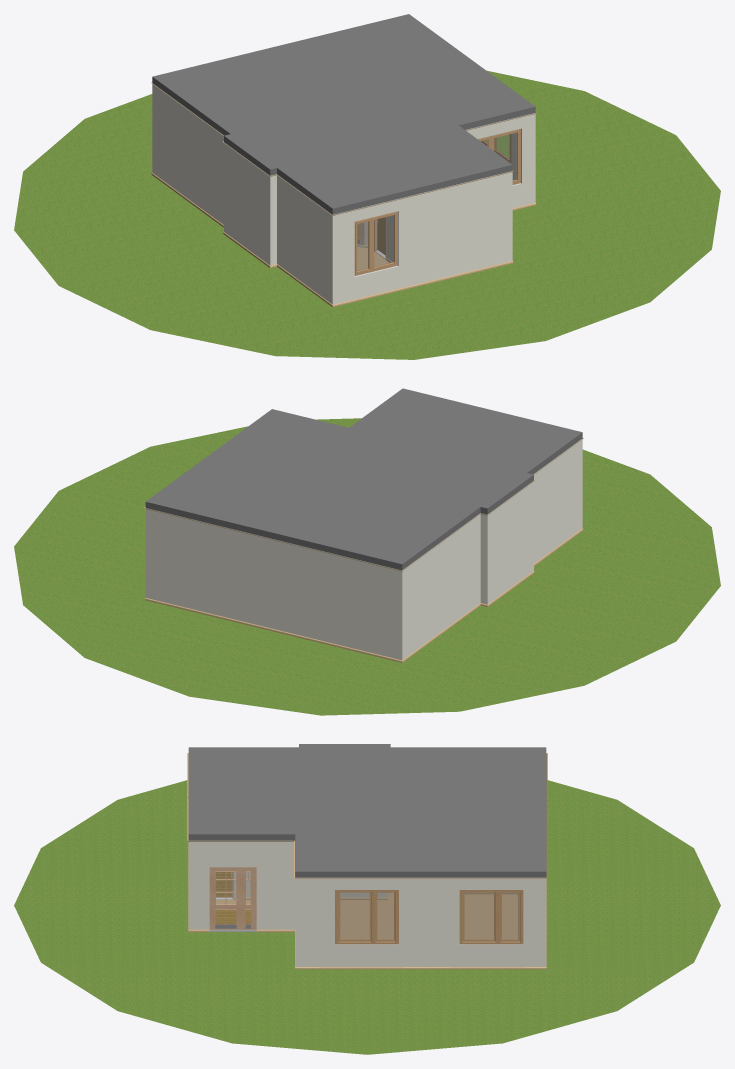
The model's file is office.dae.
3 views of the same model, one above another, from view 1: azimuth 30°, elevation 25°; view 2: azimuth 150°, elevation 25°; view 3: azimuth 270°, elevation 25° (orthographic).
Visible parts, largest first — view 1: node-910, node-905, node-867, node-872, node-767, node-827, node-702, node-903, node-862, node-737, node-901, node-722; view 2: node-910, node-905, node-822, node-792, node-867, node-827, node-702, node-817, node-757; view 3: node-910, node-905, node-747, node-717, node-807, node-674, node-897, node-899, node-879.
Boxes of the visible parts, x1,y1,x2,y2 form: node-910: [14, 70, 720, 359]; node-905: [152, 14, 535, 214]; node-867: [152, 83, 221, 222]; node-872: [444, 171, 512, 277]; node-767: [332, 193, 423, 304]; node-827: [277, 174, 332, 304]; node-702: [224, 142, 270, 265]; node-903: [354, 211, 397, 275]; node-862: [465, 113, 535, 207]; node-737: [423, 188, 443, 282]; node-901: [478, 128, 520, 184]; node-722: [270, 174, 276, 265]; node-910: [14, 418, 720, 715]; node-905: [145, 388, 582, 570]; node-822: [145, 508, 302, 635]; node-792: [303, 546, 402, 660]; node-867: [402, 520, 471, 659]; node-827: [533, 438, 582, 563]; node-702: [487, 481, 533, 603]; node-817: [471, 513, 480, 608]; node-757: [480, 513, 487, 604]; node-910: [14, 780, 720, 1054]; node-905: [188, 744, 546, 877]; node-747: [295, 877, 429, 966]; node-717: [429, 877, 546, 966]; node-807: [188, 840, 295, 929]; node-674: [216, 892, 518, 938]; node-897: [459, 890, 523, 944]; node-899: [335, 890, 398, 944]; node-879: [209, 867, 256, 931].
Size of the model in its own units: 21.01 by 3.4 by 21.01.
